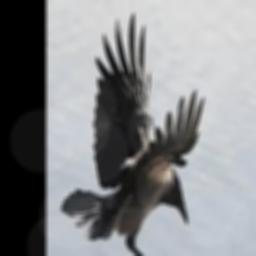Crow: (59, 11, 203, 256)
